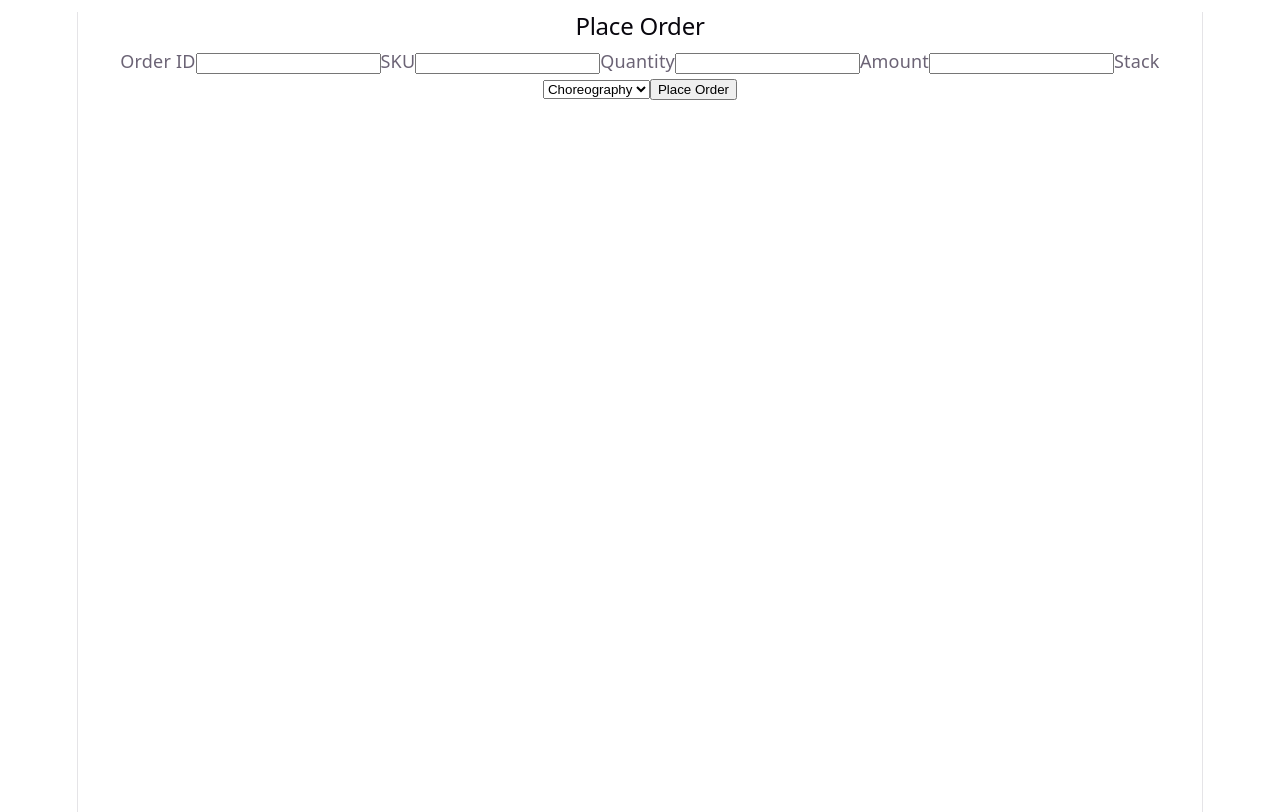
Test: PlaceOrderForm › shows an error message when the BFF rejects the order
Type "ORDER-1" into the field labelled "Order ID" at point(288, 64), box [196,53,380,74]
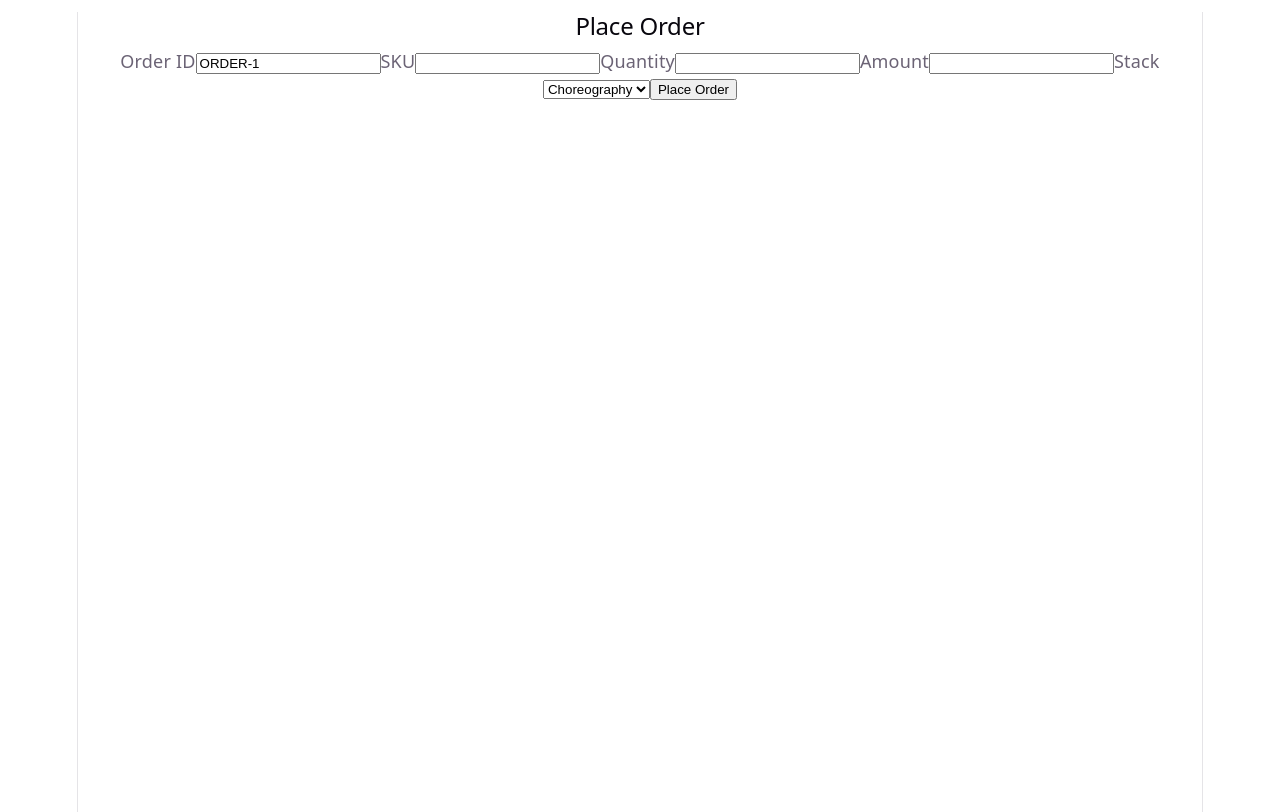
Type "SKU-1" into the field labelled "SKU" at point(508, 64), box [415,53,600,74]
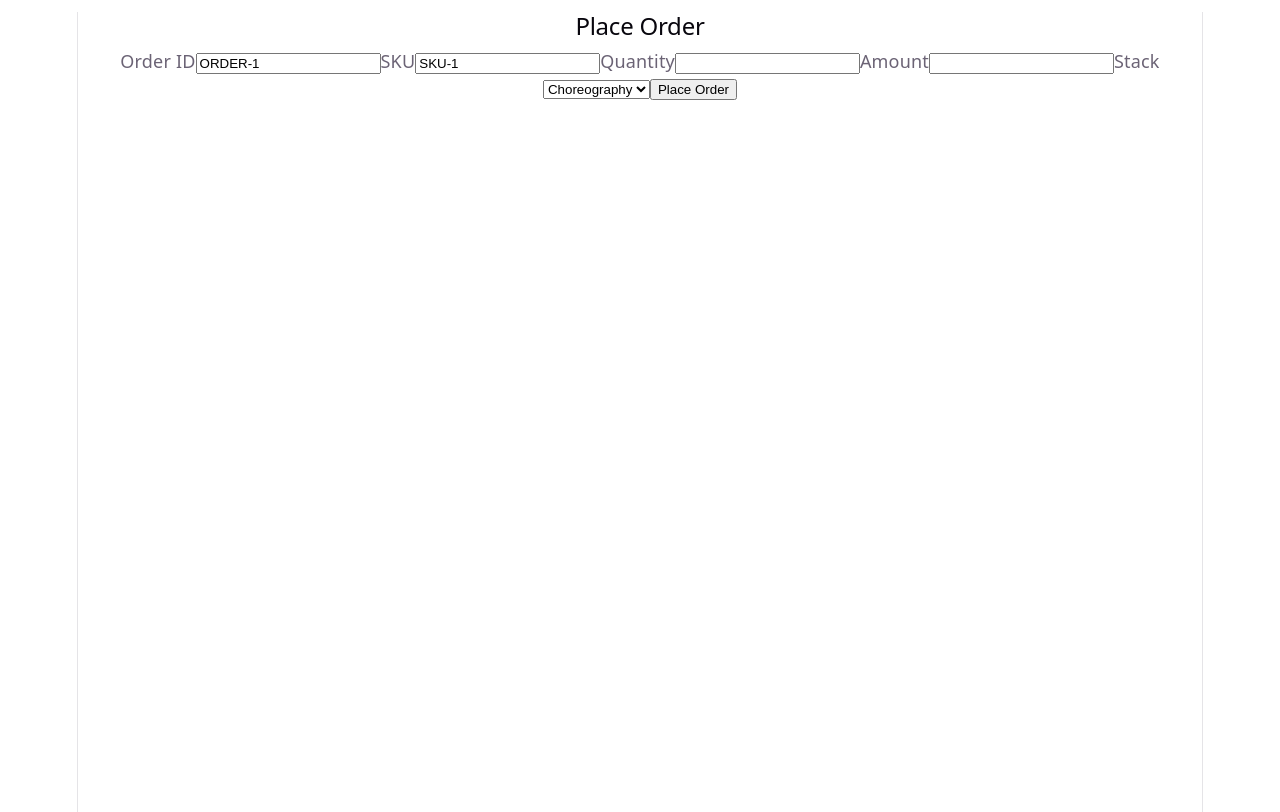
Click the button "Place Order" at point(693, 90), box [650,79,737,100]
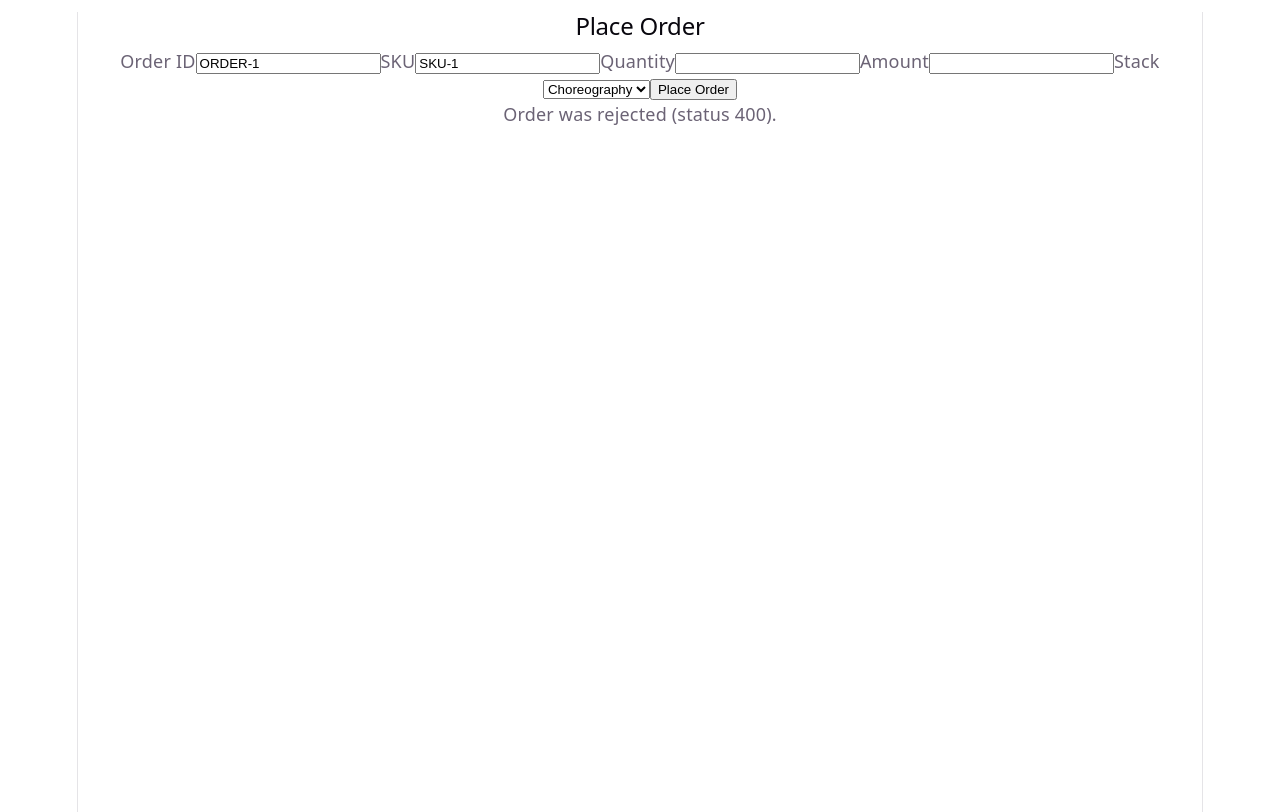
Expected: the text "Order was rejected (status 400)." is shown, [503,102,777,126]
